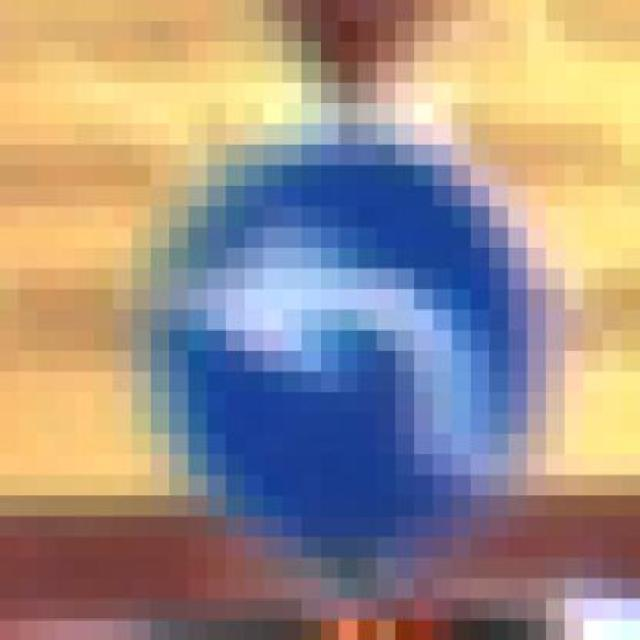Turn left ahead: (169, 124, 565, 578)
